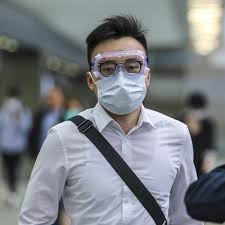mask: (76, 69, 161, 122)
social distancing: (60, 12, 185, 172)
